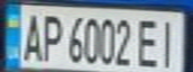0: (81, 12, 100, 65), (100, 14, 118, 66)
2: (115, 15, 136, 67)
6: (63, 11, 84, 64)
A: (18, 10, 45, 62)
E: (136, 15, 163, 69)
I: (154, 15, 184, 69)
P: (39, 10, 66, 62)
